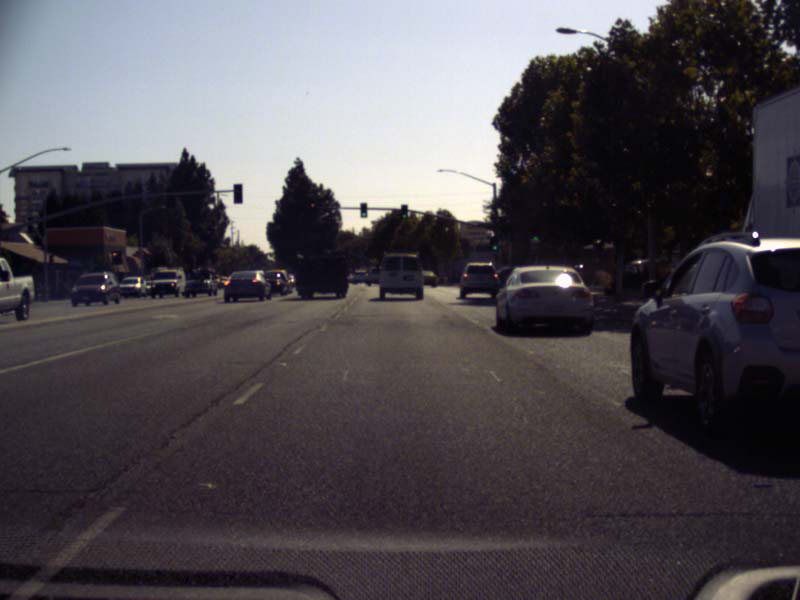Green: (360, 202, 367, 217), (530, 234, 540, 244), (401, 204, 407, 220), (491, 236, 497, 252)
Yellow: (309, 202, 315, 214)
